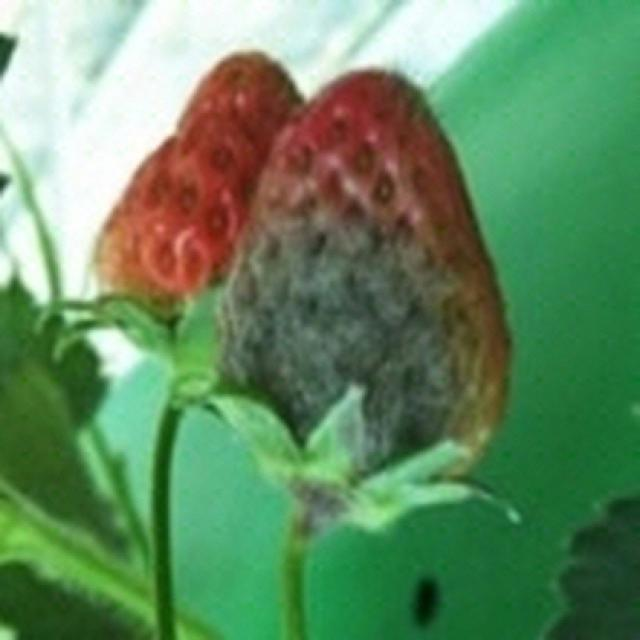Gray Mold: (213, 72, 510, 481)
